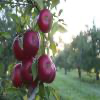Apple leaf: (8, 13, 22, 30), (1, 87, 19, 99), (50, 19, 59, 40), (31, 58, 38, 82), (58, 23, 69, 36), (38, 80, 45, 99), (0, 30, 12, 41), (50, 0, 61, 12), (18, 86, 28, 97), (25, 14, 31, 30), (40, 40, 46, 55)
